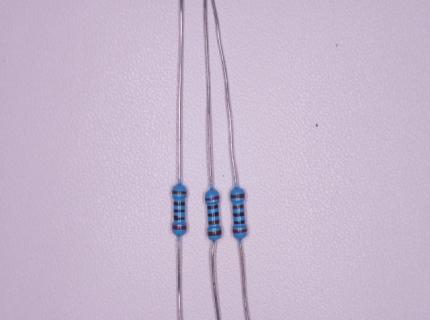Black band: (233, 212, 245, 217), (174, 215, 185, 220), (207, 204, 218, 209), (208, 212, 219, 217), (234, 220, 245, 224), (174, 202, 185, 205), (174, 209, 185, 212)
Brown band: (208, 230, 221, 236), (231, 193, 245, 198), (172, 190, 186, 194), (233, 204, 244, 209), (208, 220, 219, 224)
Red band: (206, 195, 220, 201), (233, 228, 247, 233), (172, 226, 186, 230)
